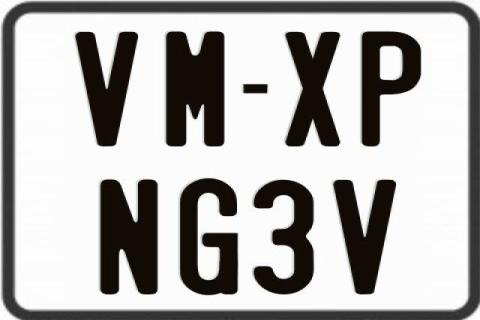0: (254, 178, 319, 296)
G: (177, 179, 241, 297)
M: (166, 29, 229, 148)
N: (99, 178, 159, 298)
P: (360, 31, 423, 150)
V: (332, 180, 402, 299), (75, 32, 139, 150)
X: (285, 30, 344, 144)
